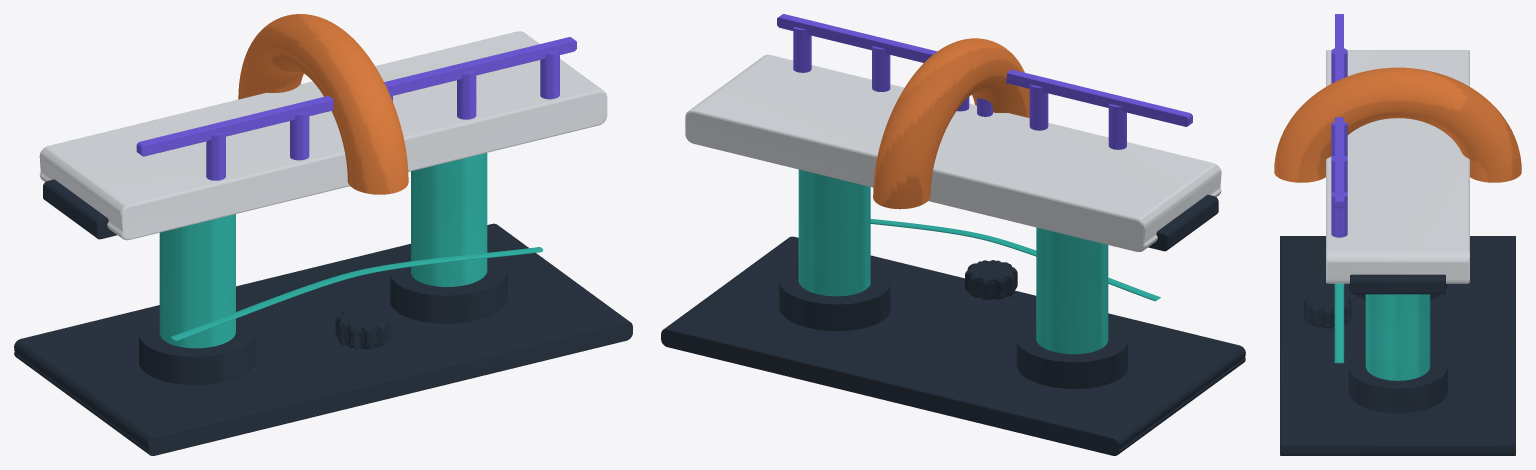
Rendered from 0814_中国建筑图鉴_赵州桥.glb.
3 views of the same model, side by side, from view 1: azimuth 30°, elevation 25°; view 2: azimuth 150°, elevation 25°; view 3: azimuth 270°, elevation 25° (orthographic). The views are drawn at different scales.
Visible parts, largest first — view 1: card_0814; view 2: card_0814; view 3: card_0814.
Part boxes in pixels (bbox=[...]): card_0814: bbox=[14, 14, 632, 455]; card_0814: bbox=[661, 14, 1245, 455]; card_0814: bbox=[1274, 14, 1521, 455].
Bounding box in the file's own units: 1.64 × 1 × 0.7896.
